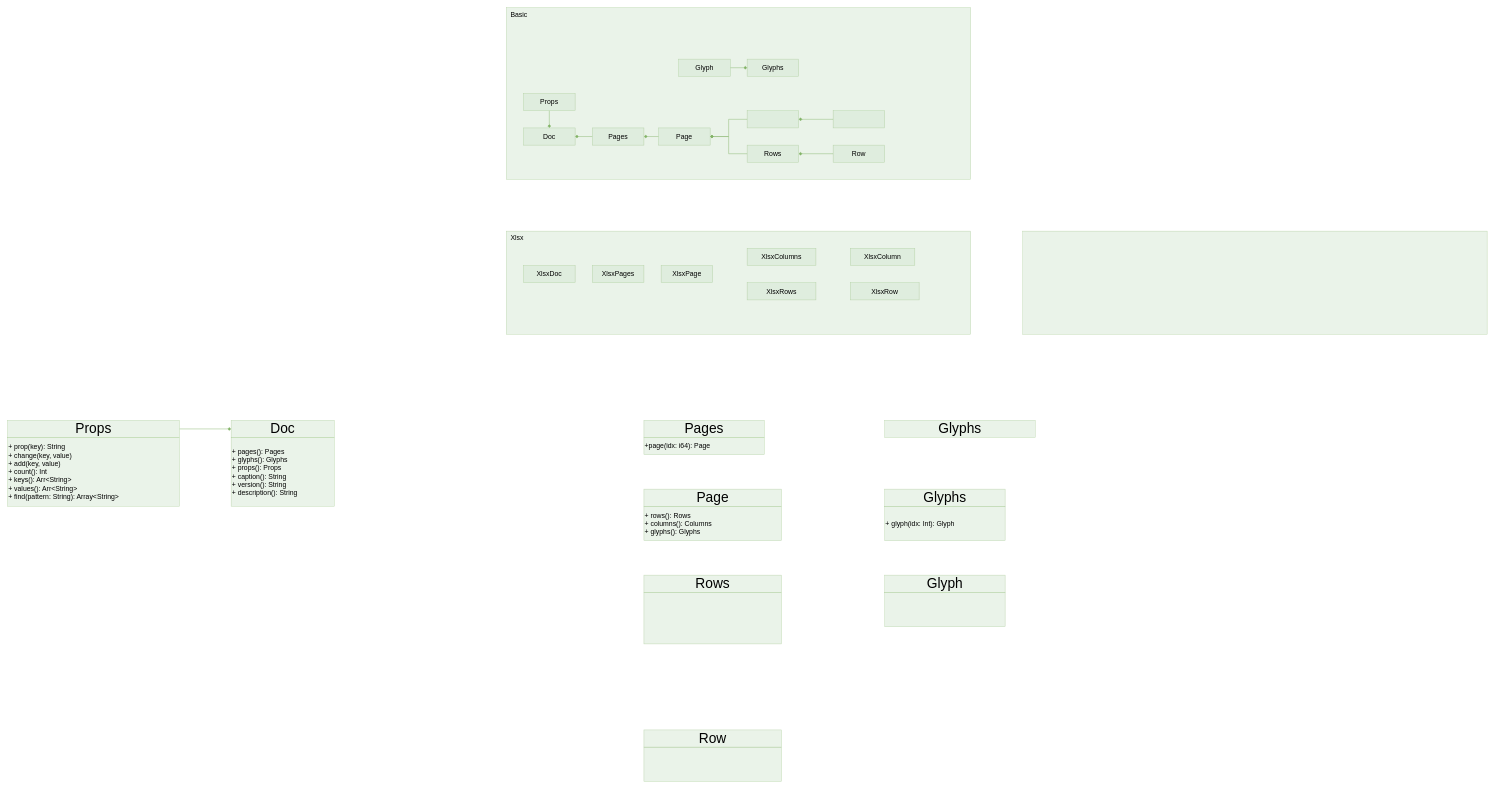
The diagram is 1495 pixels wide and 789 high, and some of its shapes have lost their labels. Each missing label, with the centre of its shape:
+ row(idx: i64): Row + set_row(idx: i64, row: Row) + add(row: Row) + count: Int: the point at 712,618
Column: the point at 859,119
Columns: the point at 773,119
Docx: the point at 1254,282
